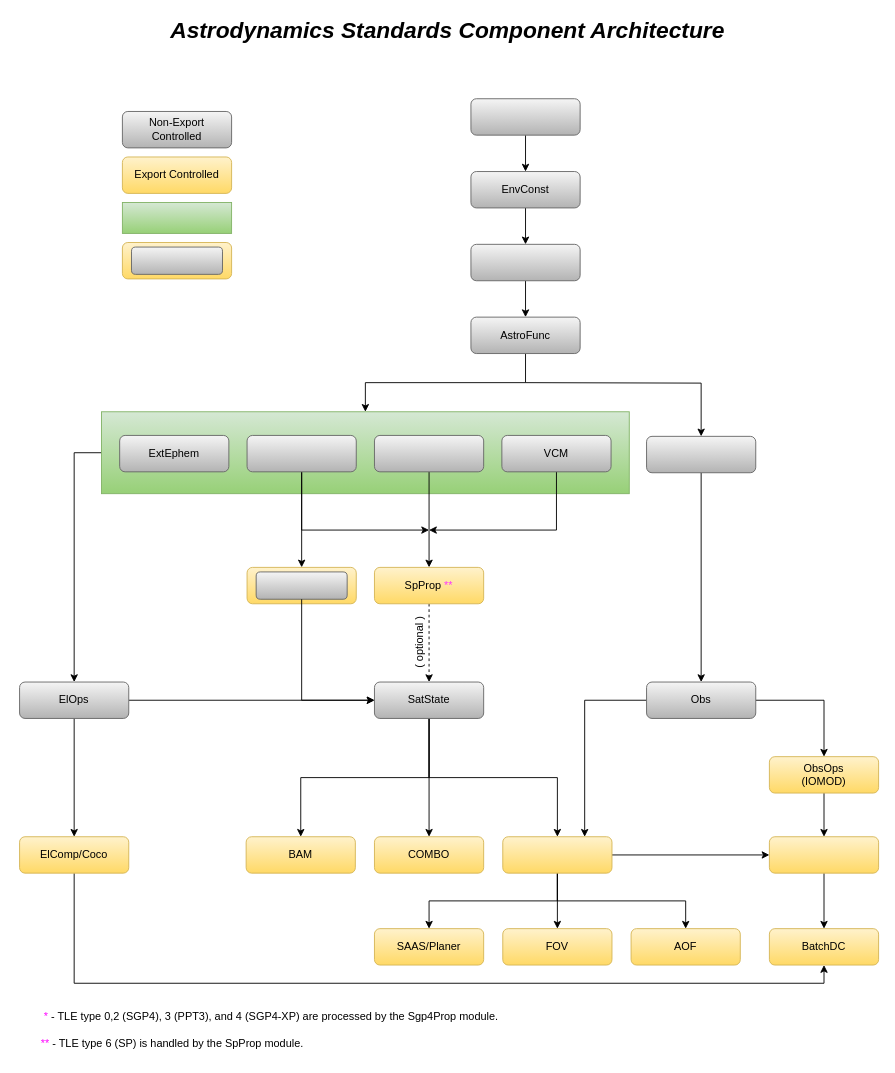
This 895x1073 diagram has some shape labels left out. Here are the shapes that lost their labels. From the top down, the centre of each, then its label:
At point (525, 116): "DllMain".
At point (176, 217): "Logical Grouping".
At point (176, 260): "Src Export Ctrl".
At point (525, 262): "TimeFunc".
At point (301, 453): "TLE".
At point (429, 453): "SpVec".
At point (701, 454): "Sensor".
At point (301, 585): "Sgp4Prop *".
At point (557, 854): "LAMOD".
At point (823, 854): "ROTAS".
